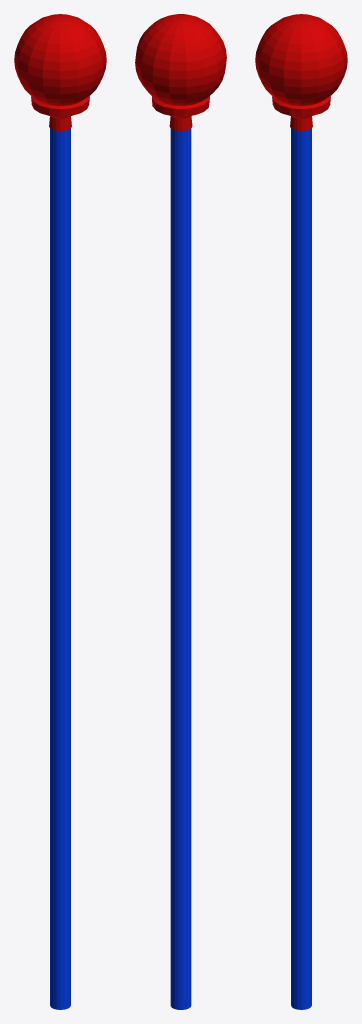
The model's file is bounce platform 2.fbx.
3 views of the same model, side by side, from view 1: azimuth 90°, elevation 25°; view 2: azimuth 210°, elevation 25°; view 3: azimuth 270°, elevation 25° (orthographic).
Parts seen in each view (by area): view 1: Cylinder; view 2: Cylinder; view 3: Cylinder.
Boxes of the visible parts, box(x1,y1,x2,y2) form: Cylinder: box(14, 14, 106, 1009); Cylinder: box(135, 14, 226, 1009); Cylinder: box(255, 14, 347, 1009).
Bounding box in the file's own units: 2 × 23.48 × 2.
